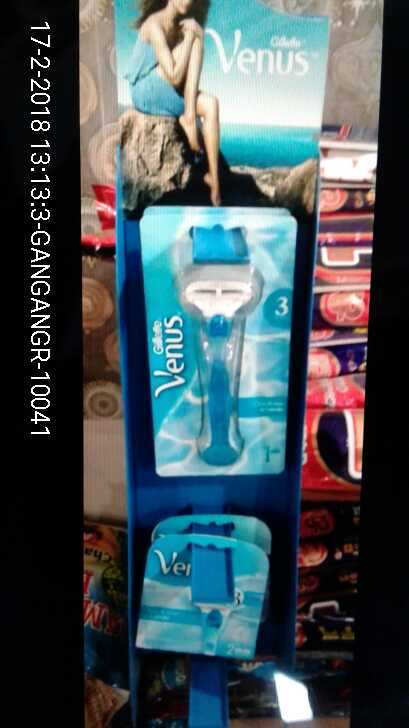venus: (138, 207, 291, 485), (135, 529, 269, 656)
